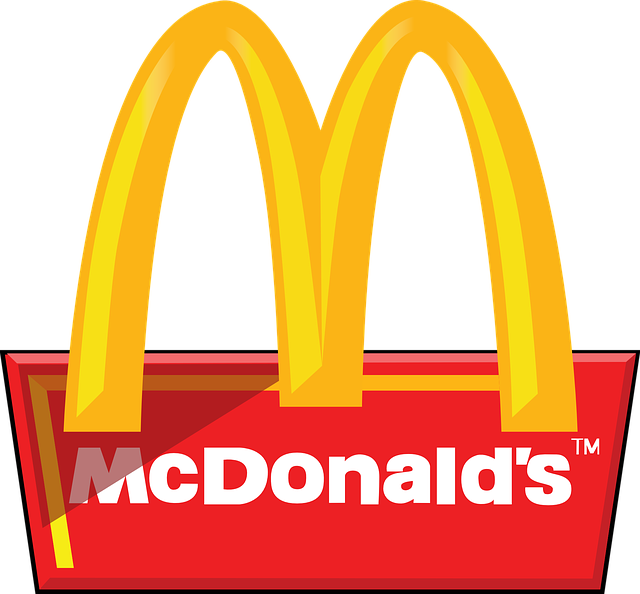mcdonalds: (63, 1, 579, 434)
